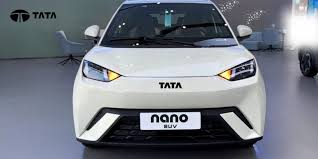Nano: (71, 1, 267, 159)
